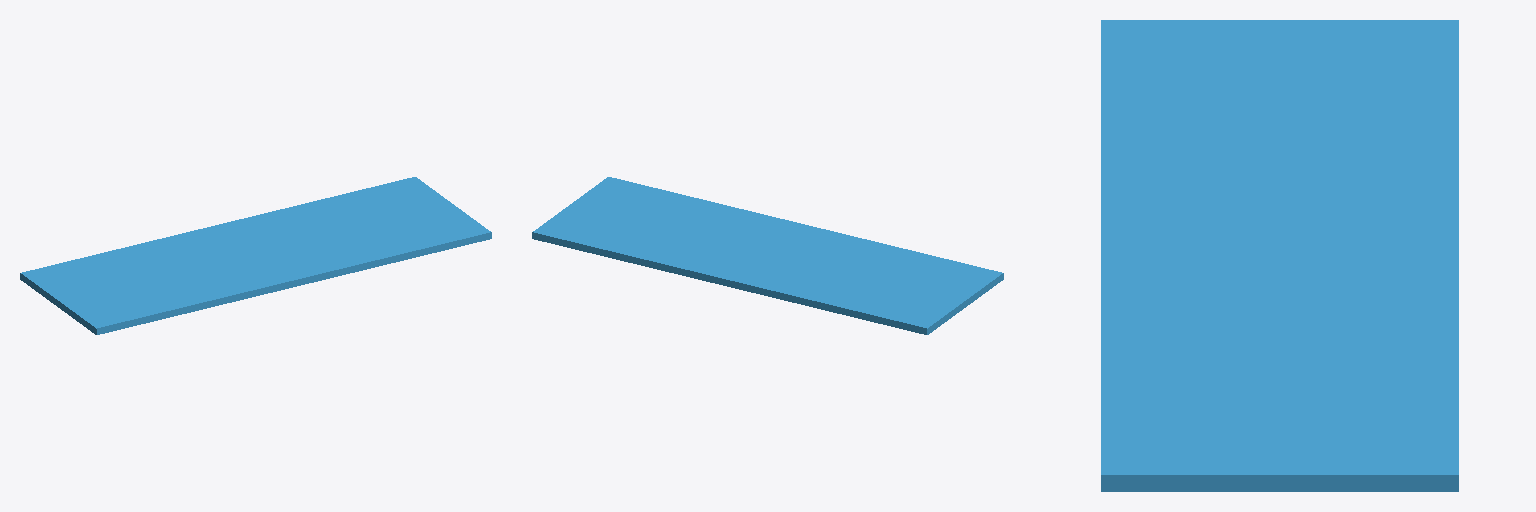
robot.urdf — ground_skeleton:
<?xml version="1.0"?>
<robot name="ground_skeleton">
    <link name="world" />
    <link name="ground_link">
        <inertial>
            <mass value="1.0" />
            <origin xyz="0 0 0" rpy="0 0 0" />
            <inertia ixx="1.0" ixy="0" ixz="0" iyy="1.0" iyz="0" izz="1.0" />
        </inertial>
        <visual>
            <origin xyz="0 0 0" rpy="0 0 0" />
            <geometry>
                <box size="3.0 1.0 0.05" />
            </geometry>
        </visual>
        <collision group="default">
            <origin xyz="0 0 0" rpy="0 0 0" />
            <geometry>
                <box size="3.0 1.0 0.05" />
            </geometry>
        </collision>
    </link>
    <joint name="ground_joint" type="fixed">
        <origin xyz="0 0 0" rpy="0 0 0" />
        <parent link="world" />
        <child link="ground_link" />
    </joint>
</robot>

--- Facts derived from the render (not from the file) ---
Views: 3 orthographic renders of the robot side by side, from view 1: azimuth 30°, elevation 25°; view 2: azimuth 150°, elevation 25°; view 3: azimuth 270°, elevation 25°.
Robot: ground_skeleton — 2 links, 1 joints (1 fixed); root link world; default pose: every joint at zero.
Visible links, largest first — view 1: ground_link; view 2: ground_link; view 3: ground_link.
Boxes of the visible links, x1=… form: ground_link: x1=20, y1=177, x2=491, y2=334; ground_link: x1=532, y1=177, x2=1003, y2=334; ground_link: x1=1101, y1=20, x2=1458, y2=491.
Size in the robot's own frame: 3 by 1 by 0.05 metres.
Geometry: primitives only (box / cylinder / sphere), no mesh files.